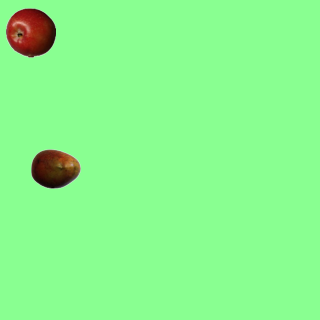Apple Braeburn: (5, 7, 55, 57)
Mango Red: (30, 143, 80, 193)
